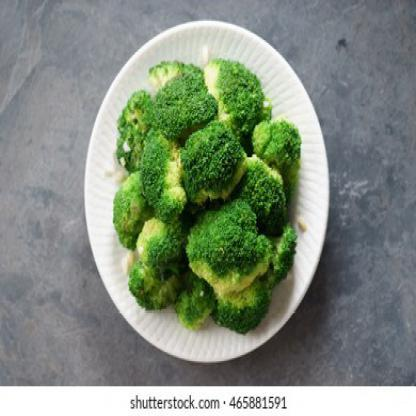broccoli: (111, 56, 304, 336)
